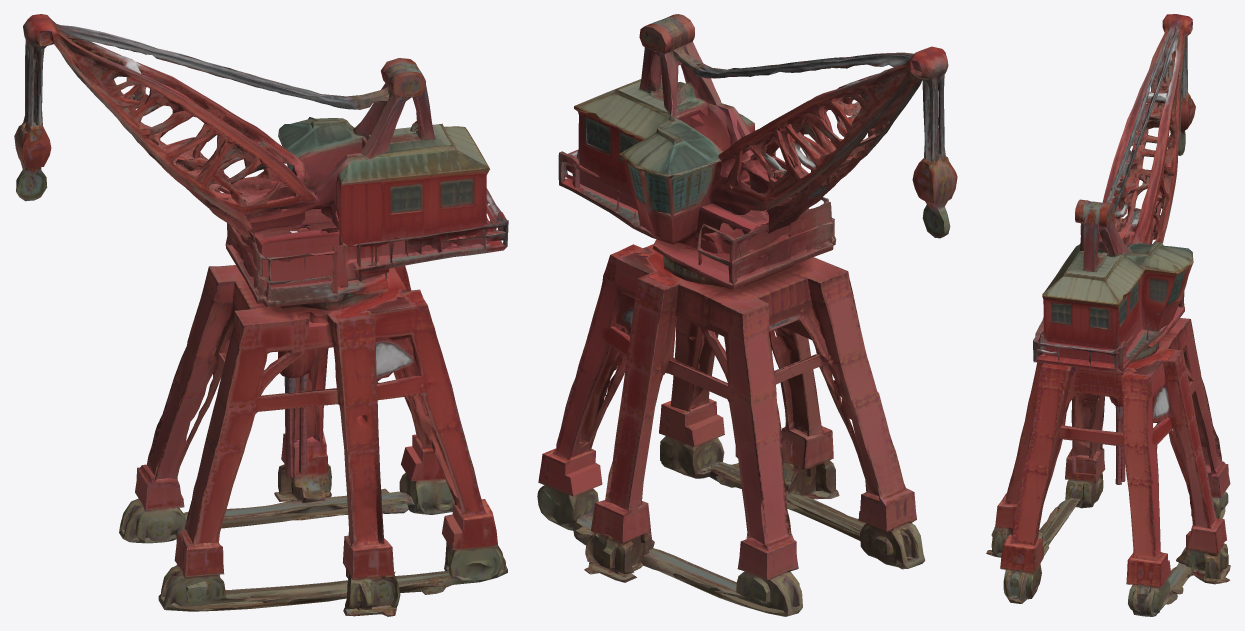
File: hp_crane_1930s.glb
The picture shows the model from 3 angles, left to right: view 1: azimuth 30°, elevation 25°; view 2: azimuth 150°, elevation 25°; view 3: azimuth 270°, elevation 25°; orthographic projection. The views are drawn at different scales.
Parts seen in each view (by area): view 1: geometry_0; view 2: geometry_0; view 3: geometry_0.
Part boxes in pixels (x1=…): geometry_0: x1=14, y1=14, x2=508, y2=616; geometry_0: x1=537, y1=14, x2=957, y2=616; geometry_0: x1=986, y1=14, x2=1230, y2=616.
Size of the model in its own units: 23.54 by 30 by 14.75.
Materials: 1 (1 with a texture image).
